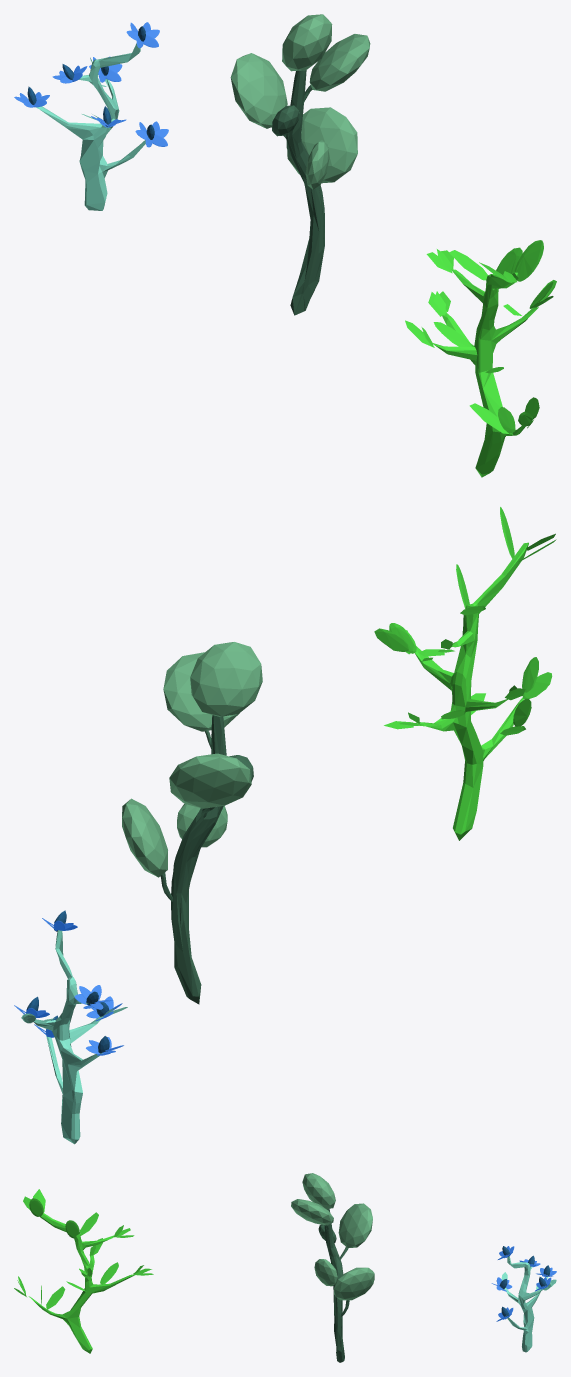
The model's file is Plants_set_001.fbx.
3 views of the same model, one above another, from view 1: azimuth 30°, elevation 25°; view 2: azimuth 150°, elevation 25°; view 3: azimuth 270°, elevation 25° (orthographic). The views are drawn at different scales.
Parts seen in each view (by area): view 1: Plant_002_leaves, Plant_001, Plant_002, Plant_003, Plant_003_flowers; view 2: Plant_002_leaves, Plant_001, Plant_002, Plant_003, Plant_003_flowers; view 3: Plant_002_leaves, Plant_001, Plant_003, Plant_002, Plant_003_flowers.
Part boxes in pixels (x1,y1,x2,y2): Plant_002_leaves: [230, 14, 370, 189]; Plant_001: [405, 240, 556, 477]; Plant_002: [271, 70, 324, 315]; Plant_003: [36, 43, 145, 210]; Plant_003_flowers: [14, 22, 168, 147]; Plant_002_leaves: [122, 642, 262, 877]; Plant_001: [374, 507, 556, 840]; Plant_002: [160, 715, 253, 1004]; Plant_003: [21, 930, 127, 1144]; Plant_003_flowers: [14, 918, 123, 1055]; Plant_002_leaves: [291, 1173, 374, 1300]; Plant_001: [14, 1189, 153, 1353]; Plant_003: [501, 1256, 556, 1352]; Plant_002: [318, 1208, 349, 1362]; Plant_003_flowers: [491, 1246, 556, 1321].
Size of the model in its own units: 85.14 by 158 by 415.
